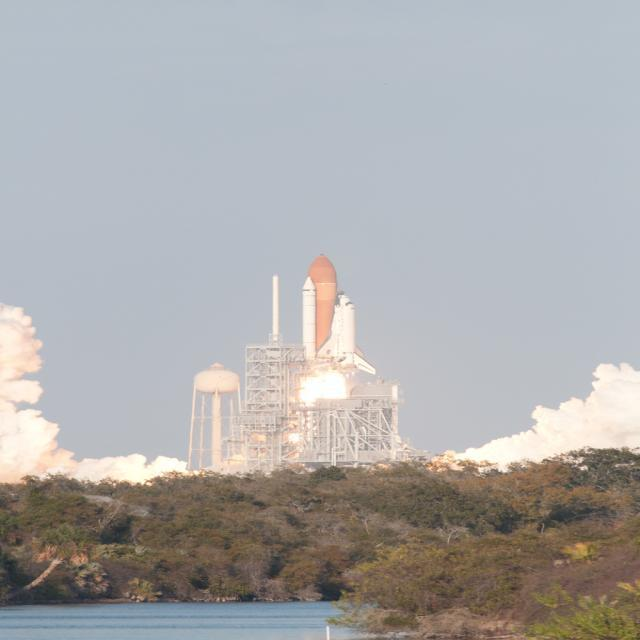missile: (300, 277, 320, 361), (269, 272, 284, 348)
